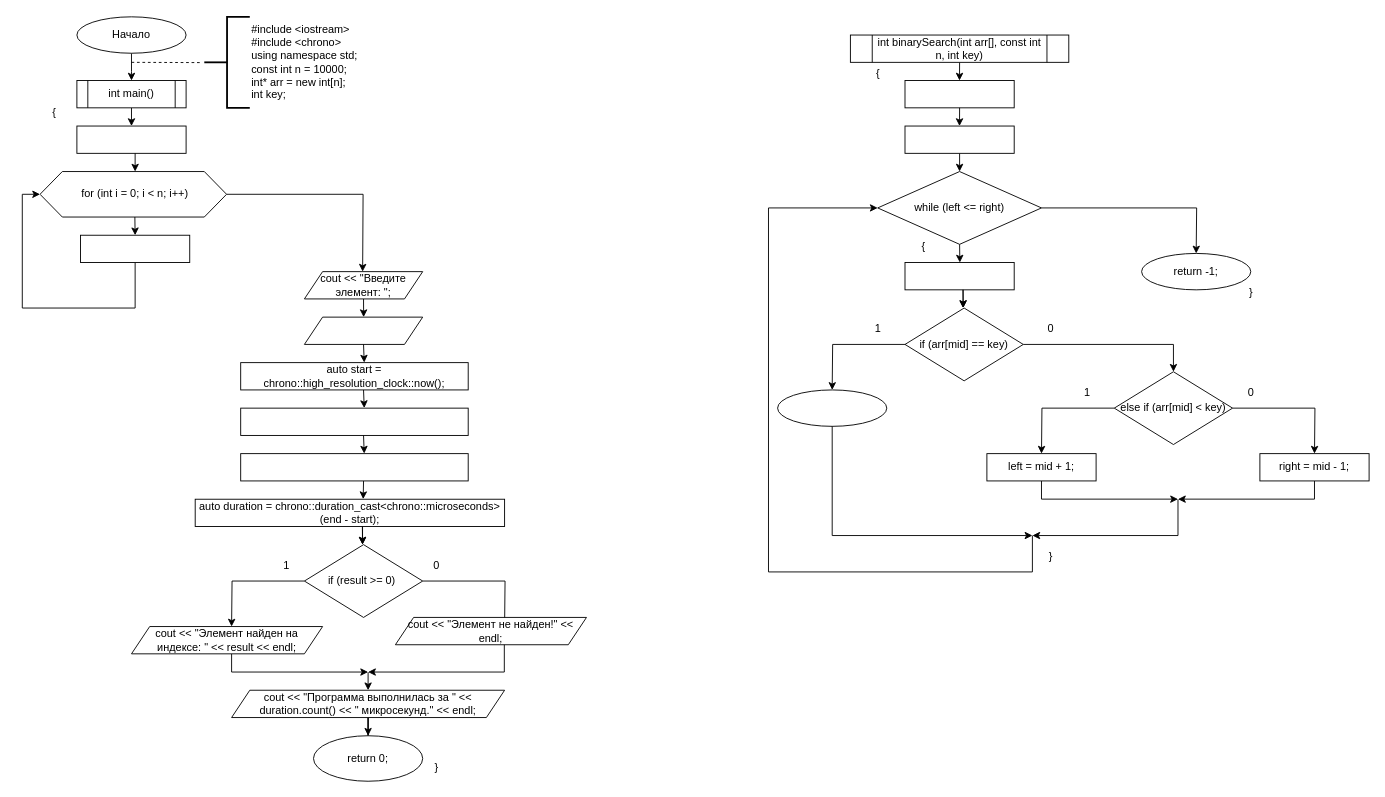
Image size: 1385x797. Some labels were removed from this diagram. Each missing label, with the box of its shape:
arr[i] = i * 2;: (80, 234, 190, 263)
auto end = chrono::high_resolution_clock::now();: (240, 453, 468, 481)
cin >> key;: (303, 316, 423, 344)
int left = 0;: (904, 80, 1014, 108)
int mid = left + (right - left) / 2;: (904, 262, 1014, 290)
int result = binarySearch(arr, n, key);: (240, 407, 468, 435)
int right = n - 1;: (904, 125, 1014, 153)
return mid;: (777, 389, 887, 426)
setlocale(LC_ALL, "Russian");: (76, 125, 186, 153)
